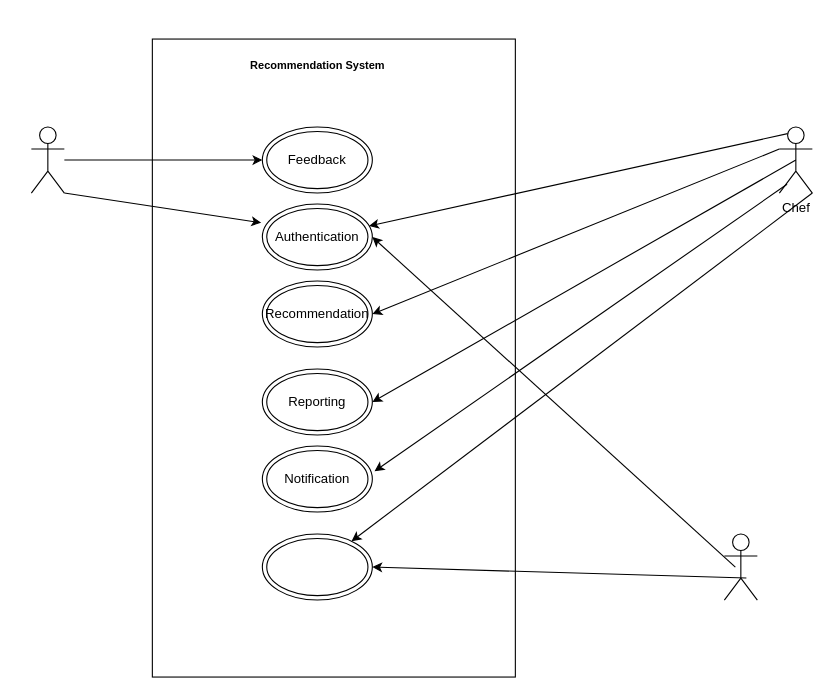
This 840x696 diagram has some shape labels left out. Here are the shapes that lost their labels. From the top down, the centre of each, then its label:
the point at 47,159: Employee
the point at 316,566: Menu Management
the point at 740,566: Admin
